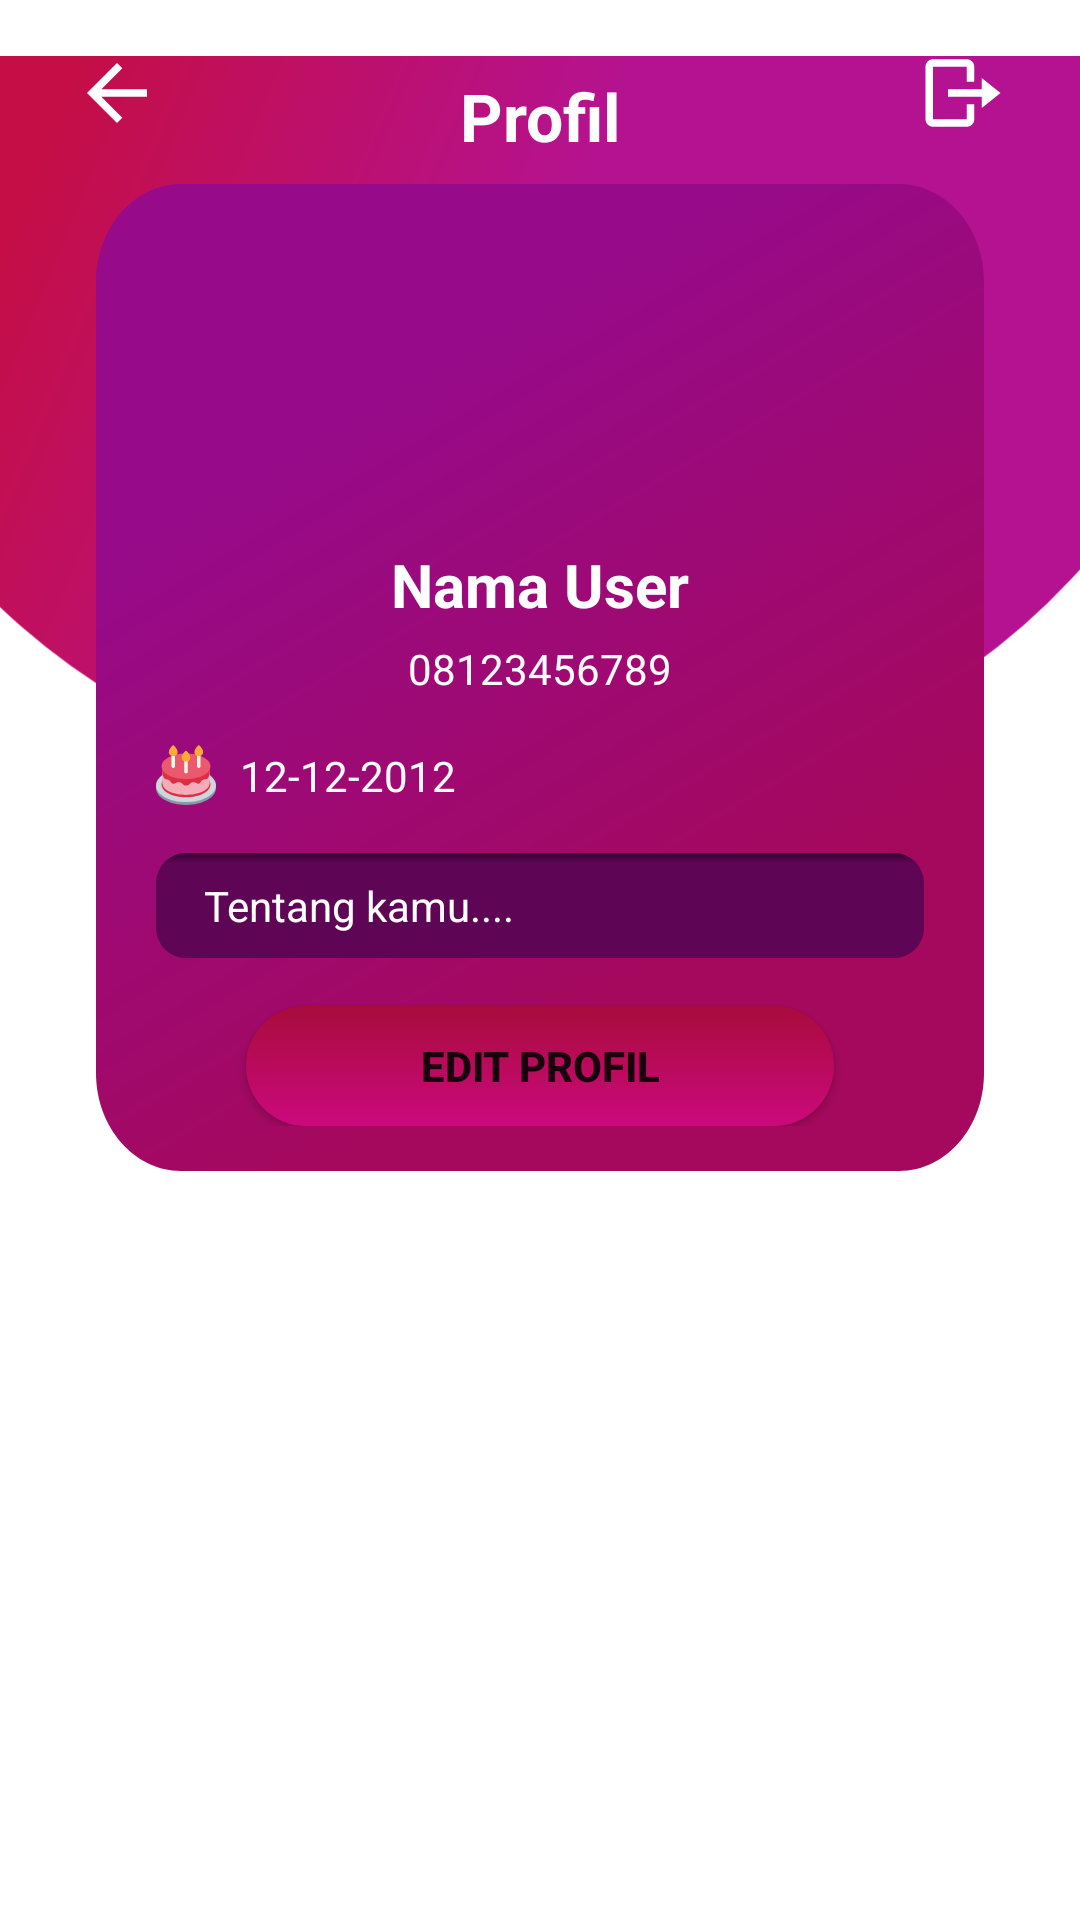

Icons on this 1080×1920 Android screen, each with the point to tap as [x,y]:
Kembali: [117,93]
Log-Out: [962,93]
twemoji birthday cake: [186,775]
